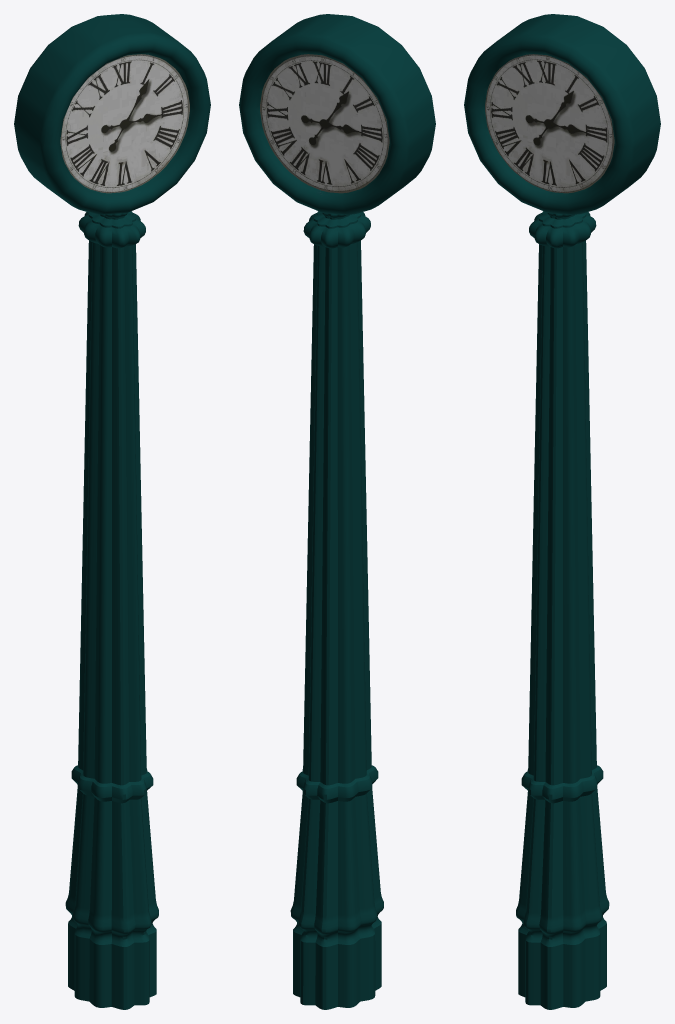
The model's file is clock.glb.
3 views of the same model, side by side, from view 1: azimuth 30°, elevation 25°; view 2: azimuth 150°, elevation 25°; view 3: azimuth 330°, elevation 25° (orthographic).
Parts seen in each view (by area): view 1: clock; view 2: clock; view 3: clock.
Part boxes in pixels (x1,y1,x2,y2): clock: (14, 14, 210, 1009); clock: (239, 14, 435, 1009); clock: (464, 14, 660, 1009).
Size of the model in its own units: 0.7164 by 3.89 by 0.378.
Materials: 1 (1 with a texture image).
